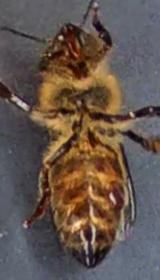varroa_mite: (99, 179, 133, 216)
